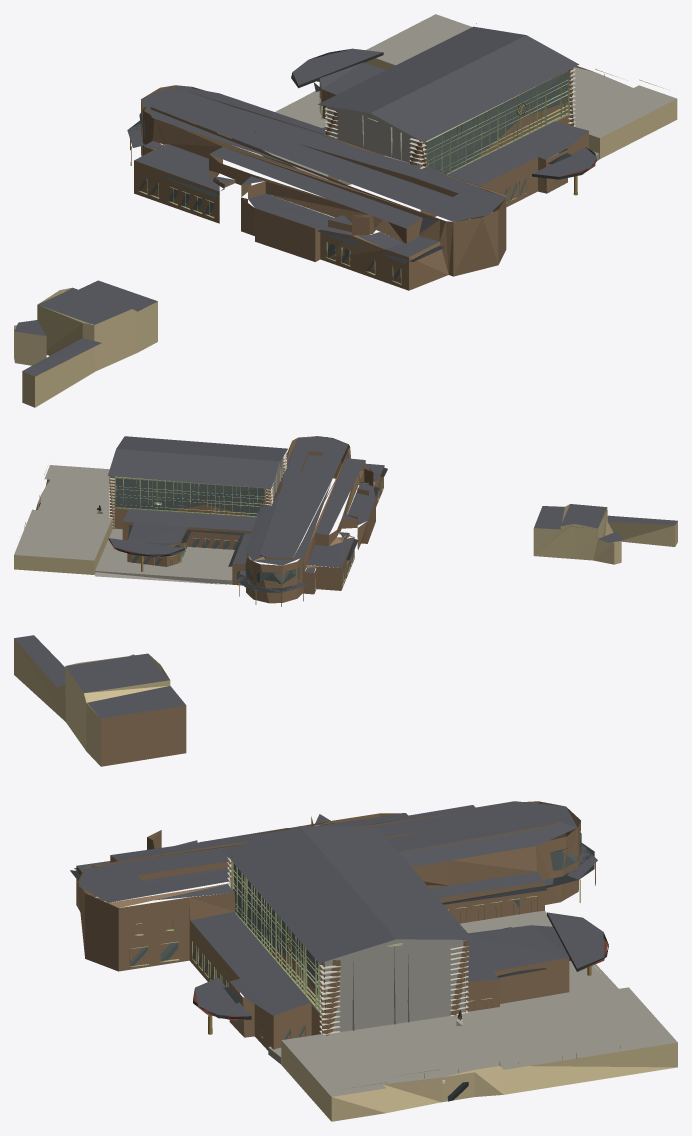
The model's file is amstelstation.lod1.glb.
3 renders of one model, top to bottom at view 1: azimuth 30°, elevation 25°; view 2: azimuth 150°, elevation 25°; view 3: azimuth 270°, elevation 25°, orthographic. The views are drawn at different scales.
Visible parts, largest first — view 1: amstelstation; view 2: amstelstation; view 3: amstelstation.
Boxes of the visible parts, x1,y1,x2,y2 form: amstelstation: (14,14,677,407); amstelstation: (14,436,677,606); amstelstation: (14,635,677,1121).
Bounding box in the file's own units: 163 × 18.86 × 102.
